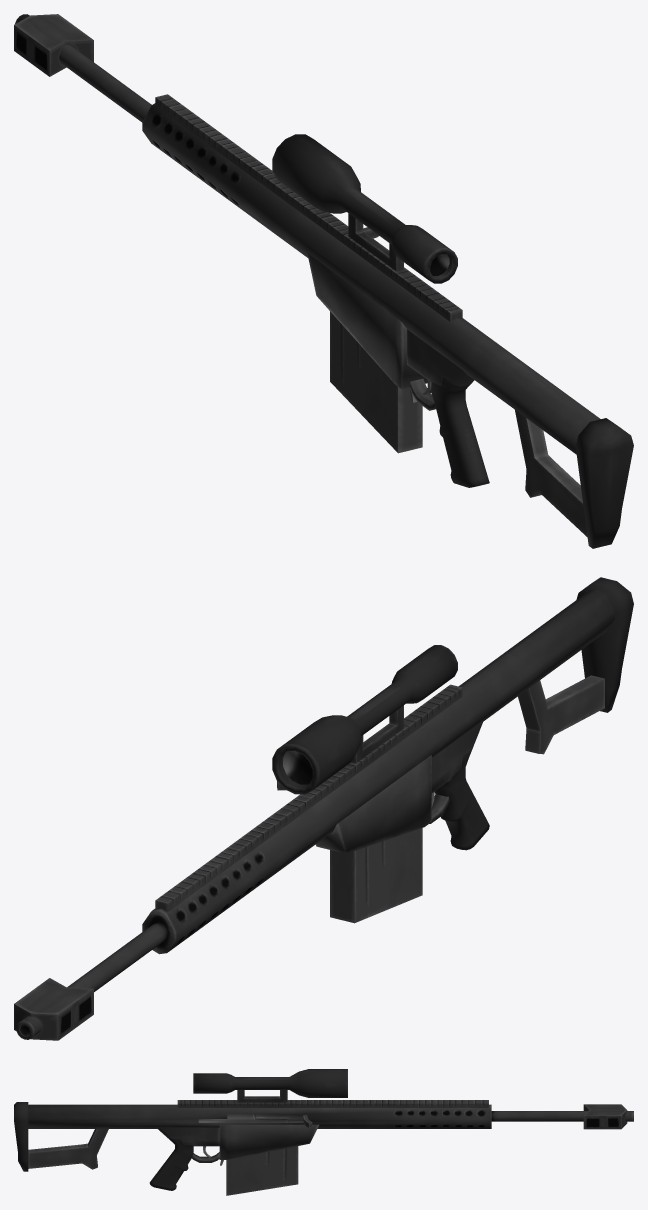
File: scout.glb
3 renders of one model, top to bottom at view 1: azimuth 30°, elevation 25°; view 2: azimuth 150°, elevation 25°; view 3: azimuth 270°, elevation 25°, orthographic. The views are drawn at different scales.
Visible parts, largest first — view 1: scout; view 2: scout; view 3: scout.
Boxes of the visible parts, x1,y1,x2,y2 form: scout: (14, 14, 633, 548); scout: (14, 577, 633, 1040); scout: (14, 1069, 633, 1195).
Bounding box in the file's own units: 0.0998 × 0.283 × 1.3.
1 material, 1 textured.
